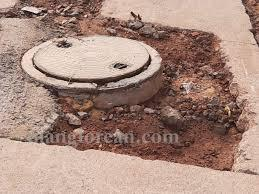closed manhole-not overflowing-: (23, 35, 174, 113)
